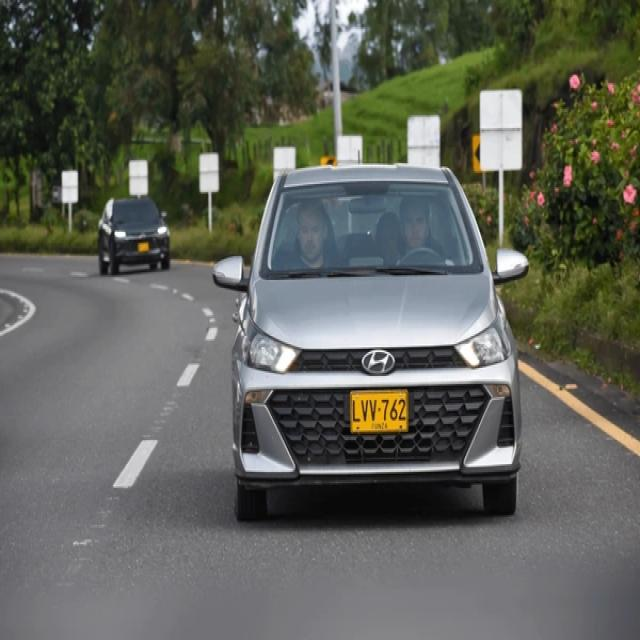hyundai: (360, 350, 395, 373)
